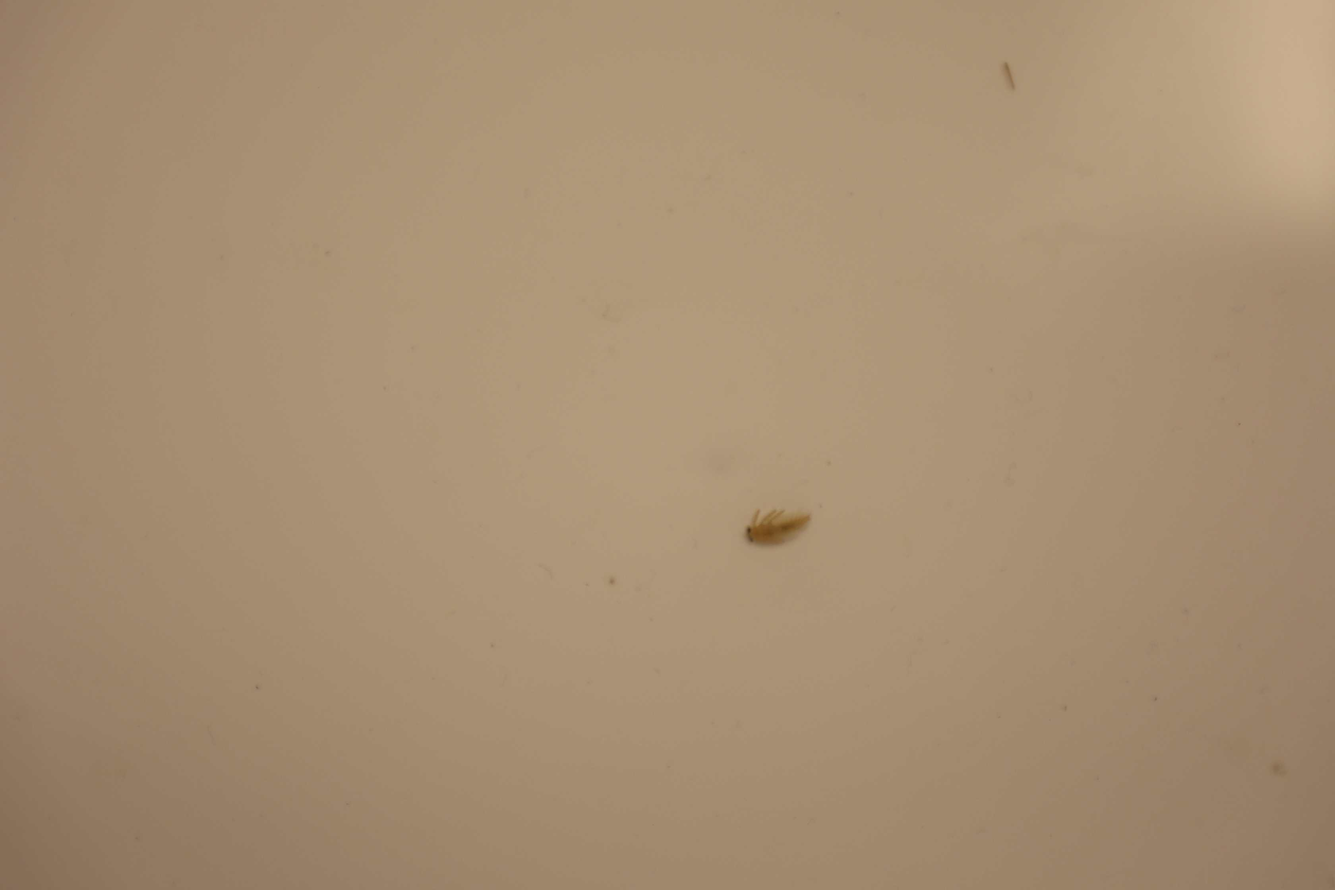Mayfly: (741, 505, 810, 548)
